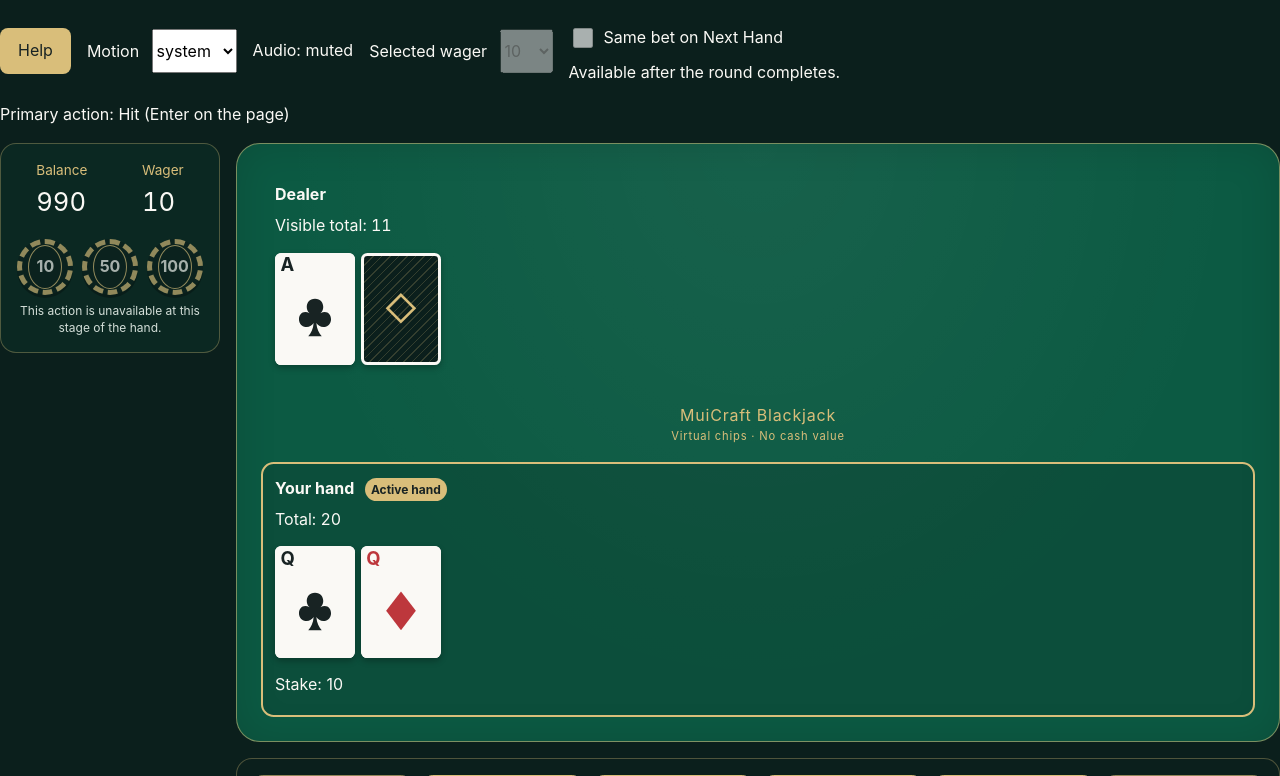
Test: Help visibly explains every fixed-rule claim and opening-peek consequence
The width and height of the screenshot is (1280, 776).
Step 1. Click the button "Help" → (35, 51), box [0, 28, 71, 74]
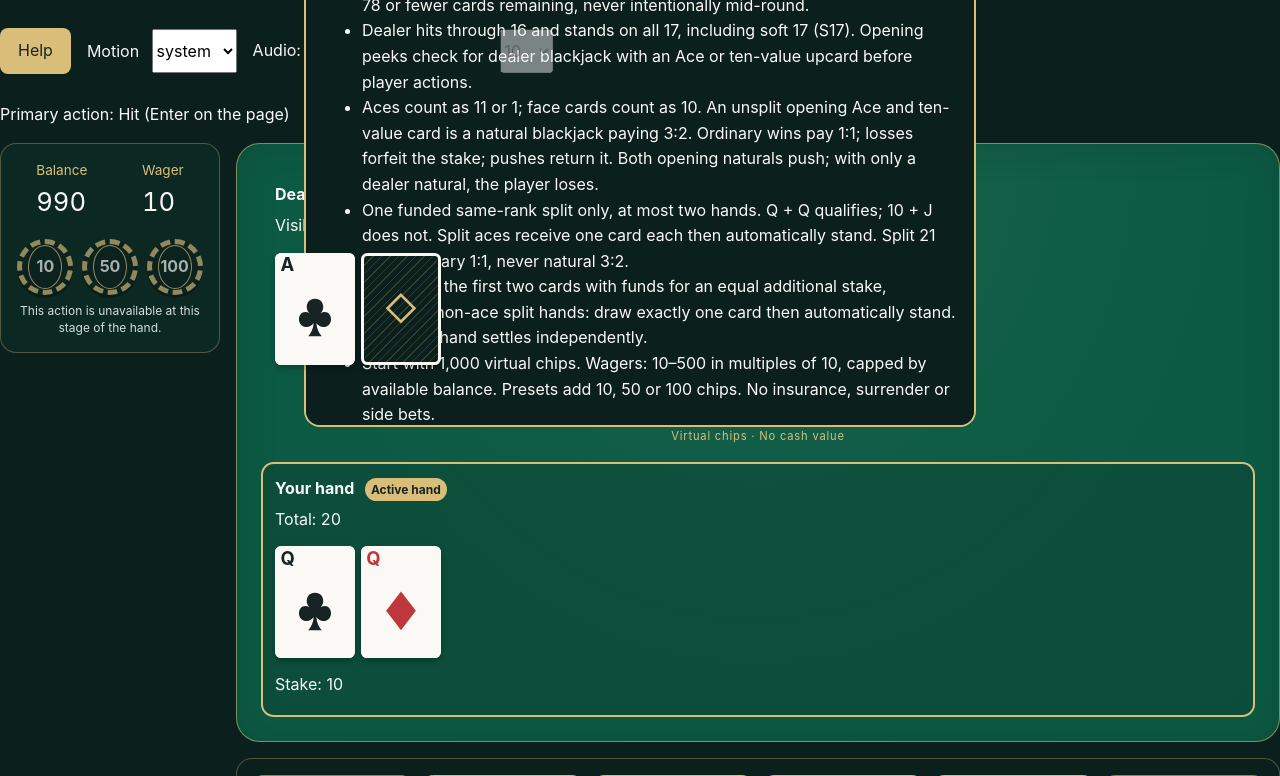
Expected: the list item "Dealer hits through 16 and stands on all 17, including soft 17 (S17). Opening peeks check for dealer blackjack with an A" is shown, [362, 20, 924, 92]
Expected: the list item "Aces count as 11 or 1; face cards count as 10. An unsplit opening Ace and ten-value card is a natural blackjack paying 3" is shown, [362, 97, 950, 194]
Expected: the list item "One funded same-rank split only, at most two hands. Q + Q qualifies; 10 + J does not. Split aces receive one card each t" is shown, [362, 200, 935, 271]
